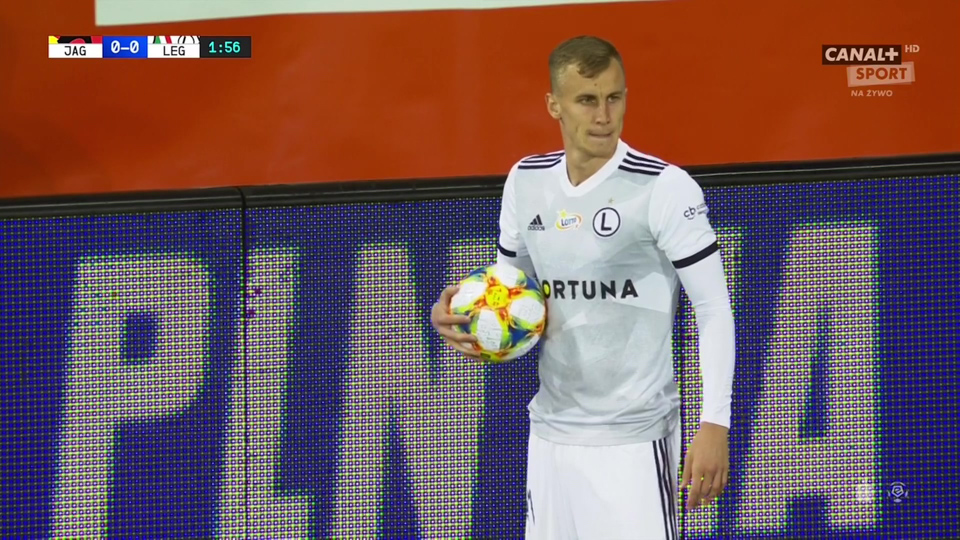Adidas: (528, 214, 545, 230)
